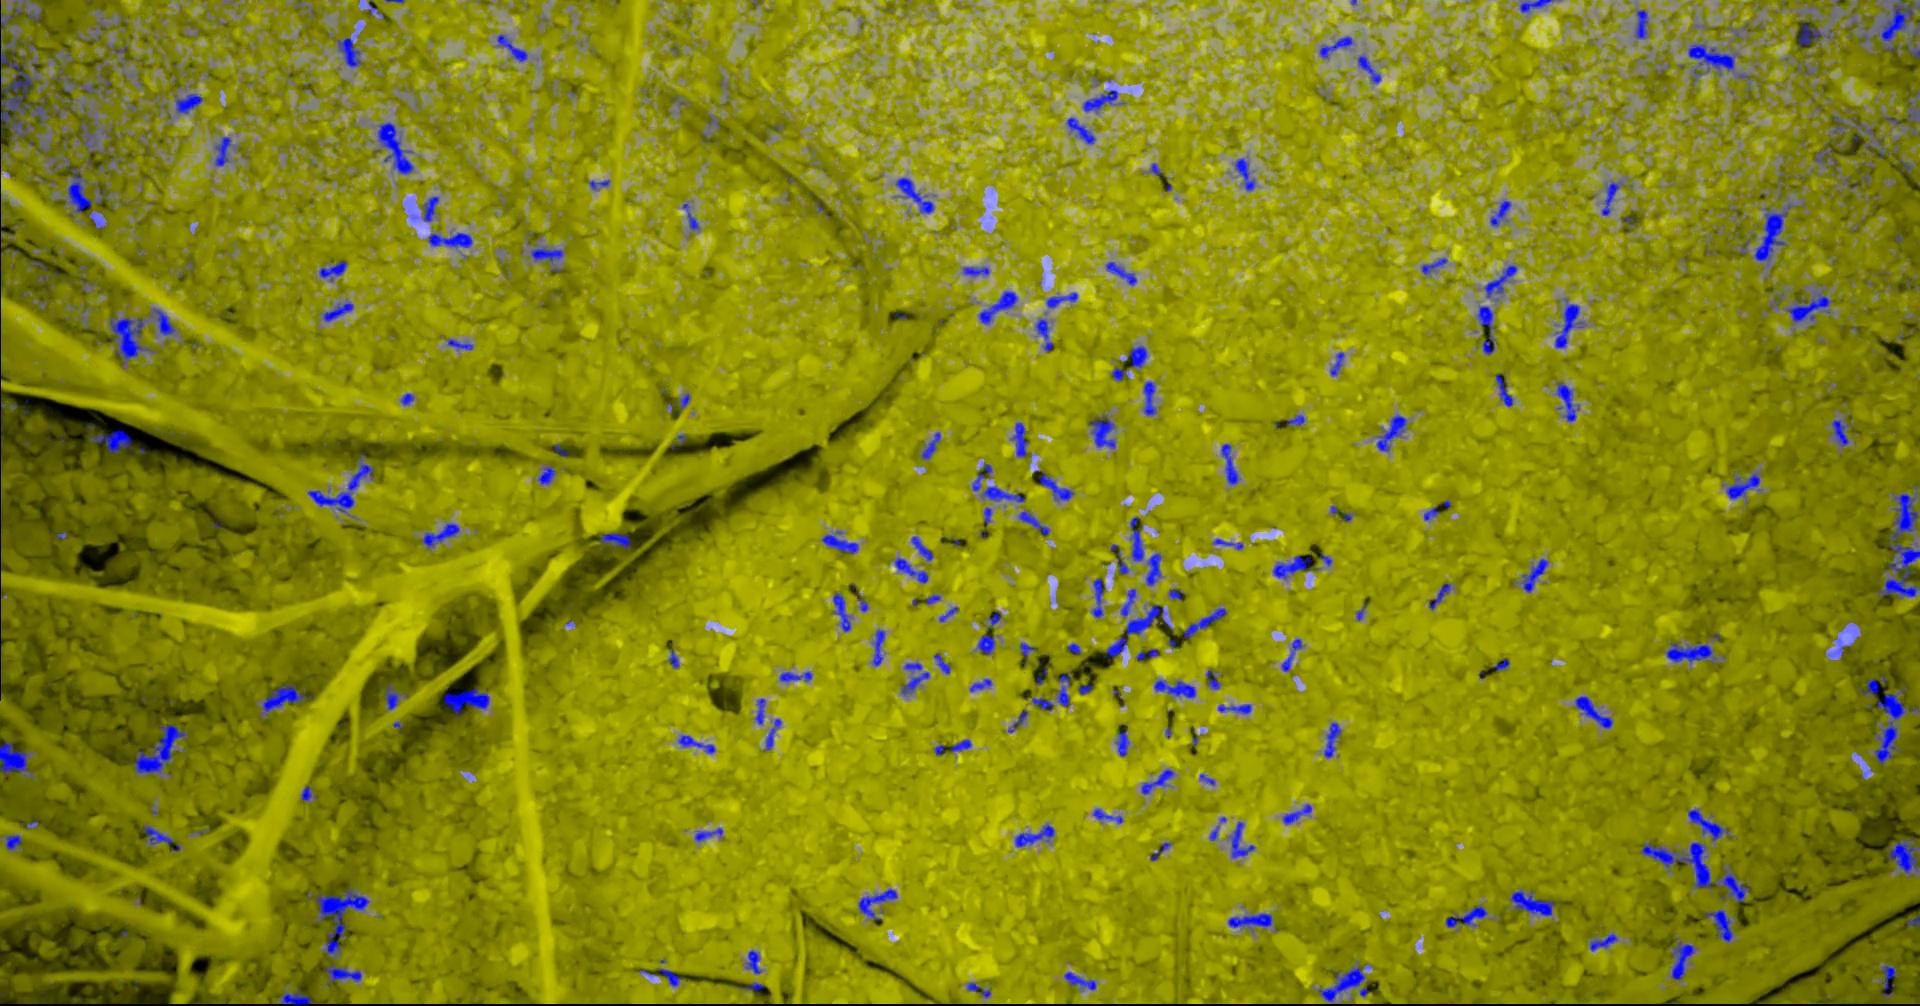ant: (309, 453, 375, 513), (1105, 605, 1175, 657), (1755, 205, 1798, 264), (973, 462, 1027, 502), (109, 316, 154, 365), (66, 164, 108, 212), (378, 122, 415, 174), (1319, 967, 1373, 1001), (263, 683, 316, 715), (1882, 0, 1920, 41), (1556, 298, 1586, 347), (1787, 291, 1832, 323), (1689, 808, 1735, 840), (860, 888, 899, 925), (897, 177, 935, 213), (1689, 43, 1738, 71), (444, 687, 491, 715), (980, 290, 1018, 324), (1, 741, 36, 779), (1185, 607, 1228, 636), (1576, 695, 1614, 728), (1890, 835, 1920, 873), (1378, 414, 1408, 451), (1667, 641, 1718, 663), (1512, 889, 1556, 915), (1484, 264, 1517, 297), (91, 429, 135, 453), (1671, 939, 1697, 979), (902, 662, 931, 696), (1040, 473, 1076, 500), (145, 824, 182, 851), (1274, 555, 1314, 579), (423, 522, 461, 547), (1705, 909, 1735, 942), (1448, 904, 1490, 927), (1727, 473, 1763, 499), (1232, 821, 1257, 857), (1016, 824, 1057, 847), (1523, 558, 1549, 592), (1478, 305, 1496, 354), (1091, 415, 1117, 448), (498, 34, 530, 61), (1229, 913, 1274, 932), (823, 530, 860, 553), (1142, 768, 1175, 794), (1558, 382, 1580, 420), (325, 962, 363, 983), (1068, 116, 1097, 144), (338, 37, 364, 67), (1799, 20, 1832, 44), (897, 558, 930, 582), (1222, 443, 1241, 484), (640, 968, 683, 986), (1020, 511, 1051, 535), (1321, 36, 1354, 58), (1156, 680, 1197, 697), (1084, 89, 1119, 111), (1107, 260, 1138, 285), (679, 734, 717, 753), (1283, 638, 1304, 671), (81, 116, 100, 152), (834, 592, 852, 631), (1324, 721, 1343, 757), (152, 307, 177, 335), (1236, 158, 1256, 191), (1603, 180, 1622, 215), (324, 301, 356, 321), (1359, 55, 1382, 83), (1131, 516, 1145, 561), (1284, 803, 1313, 824), (1065, 970, 1098, 989), (429, 232, 474, 246), (385, 683, 409, 709), (1012, 422, 1030, 456), (1859, 674, 1888, 695), (1037, 318, 1055, 351), (279, 987, 312, 1005), (1491, 199, 1512, 226), (1123, 345, 1149, 367), (177, 93, 204, 113), (320, 260, 348, 281), (922, 431, 942, 459), (1093, 577, 1107, 617), (1882, 964, 1898, 998), (1815, 138, 1837, 163), (912, 536, 935, 560), (1430, 583, 1451, 608), (532, 246, 565, 263), (1497, 373, 1514, 406), (1147, 553, 1163, 586), (1058, 673, 1074, 706), (872, 627, 886, 666), (601, 531, 632, 547), (767, 718, 783, 749), (1, 8, 24, 30), (1853, 118, 1876, 141), (216, 136, 232, 166), (1048, 292, 1079, 307), (1832, 419, 1850, 446), (978, 627, 996, 654), (1095, 808, 1125, 823), (1591, 934, 1619, 950), (1423, 257, 1449, 274), (1145, 380, 1158, 415), (1117, 724, 1131, 756), (1010, 709, 1029, 732), (1152, 841, 1173, 860), (1123, 588, 1137, 617), (684, 203, 700, 230), (747, 949, 763, 973), (1521, 0, 1556, 11), (1219, 702, 1253, 714), (696, 827, 724, 841), (424, 196, 439, 221), (935, 653, 952, 674), (1637, 9, 1650, 38), (968, 982, 992, 997), (1331, 351, 1345, 376), (538, 466, 557, 484), (781, 671, 814, 681), (1214, 539, 1244, 549), (940, 606, 960, 621), (1117, 550, 1130, 574), (1138, 648, 1161, 661), (1032, 697, 1055, 710), (450, 338, 474, 349), (971, 678, 993, 691), (951, 738, 973, 751), (964, 265, 990, 276), (1208, 669, 1222, 688), (757, 699, 767, 724), (1021, 641, 1037, 657), (6, 835, 24, 848), (1907, 102, 1920, 121), (739, 982, 766, 991), (302, 785, 317, 800), (1112, 366, 1129, 380), (670, 647, 681, 668), (1425, 506, 1440, 520), (555, 443, 571, 456), (590, 179, 611, 189), (858, 591, 869, 611), (1288, 414, 1305, 426), (1898, 159, 1914, 171), (1834, 116, 1845, 132), (990, 611, 1002, 627), (403, 392, 417, 405), (1909, 42, 1920, 57), (679, 392, 691, 408), (1170, 588, 1185, 600), (1496, 658, 1511, 669), (1079, 683, 1095, 694), (985, 506, 993, 525), (1907, 915, 1920, 926)
